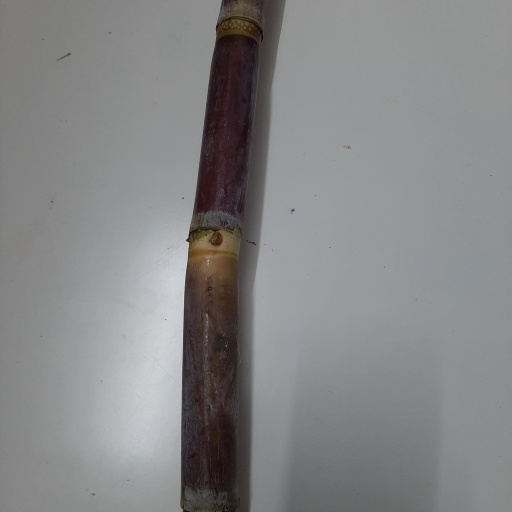Bud: (208, 229, 222, 246)
